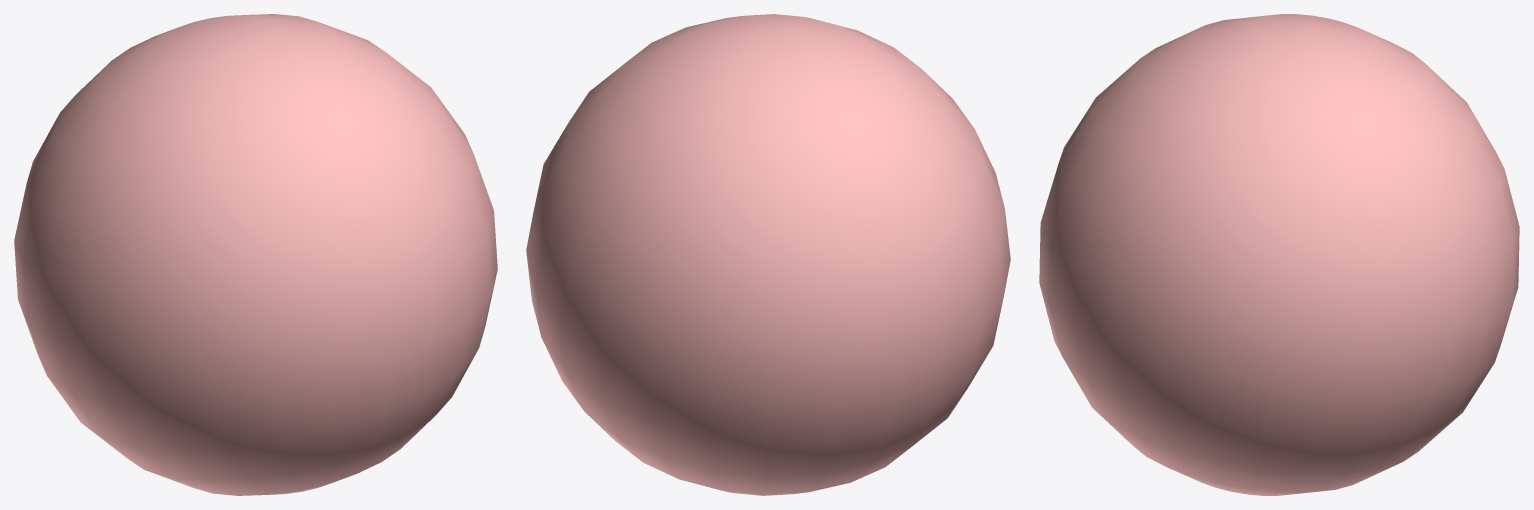
The picture shows the model from 3 angles, left to right: view 1: azimuth 30°, elevation 25°; view 2: azimuth 150°, elevation 25°; view 3: azimuth 270°, elevation 25°; orthographic projection.
Parts seen in each view (by area): view 1: Sphère; view 2: Sphère; view 3: Sphère.
Part boxes in pixels (x1,y1,x2,y2): Sphère: (14,14,497,495); Sphère: (526,14,1010,495); Sphère: (1039,14,1519,495).
Size of the model in its own units: 0.7139 by 0.7185 by 0.7152.
